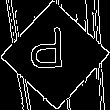P_S: (36, 29, 74, 81)
